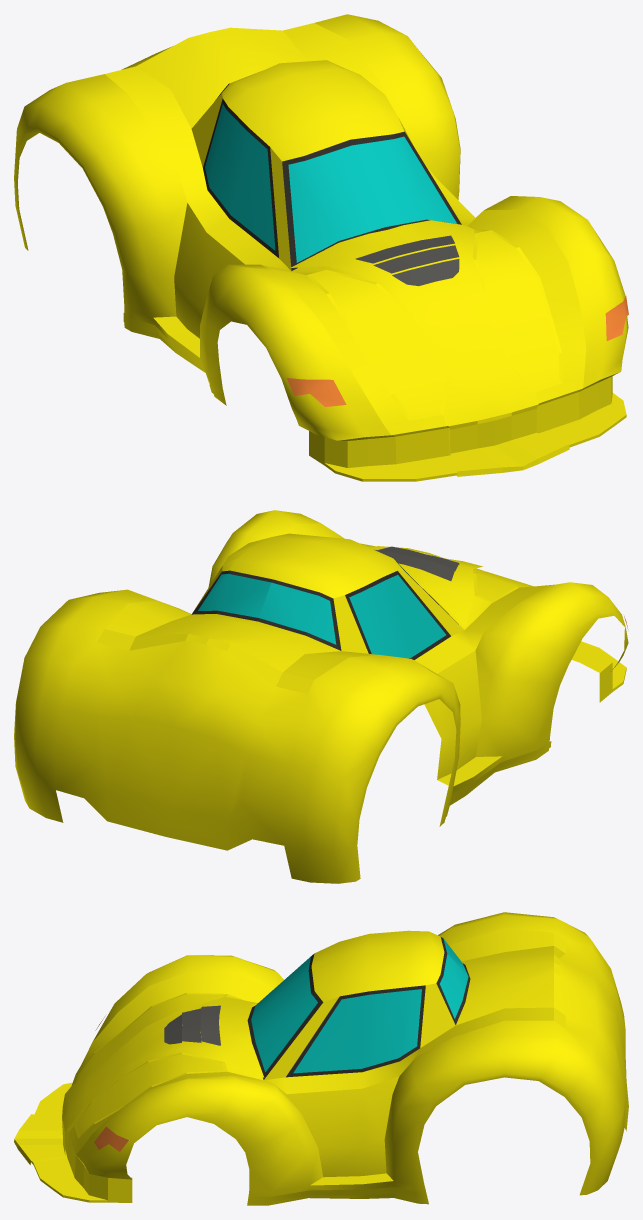
File: LuxCasing00C04.gltf
The picture shows the model from 3 angles, top to bottom: view 1: azimuth 30°, elevation 25°; view 2: azimuth 150°, elevation 25°; view 3: azimuth 270°, elevation 25°; orthographic projection. The views are drawn at different scales.
Parts seen in each view (by area): view 1: LuxCasing00C04; view 2: LuxCasing00C04; view 3: LuxCasing00C04.
Boxes of the visible parts, x1=… form: LuxCasing00C04: x1=14, y1=14, x2=628, y2=481; LuxCasing00C04: x1=14, y1=510, x2=628, y2=883; LuxCasing00C04: x1=14, y1=912, x2=628, y2=1205.
Bounding box in the file's own units: 0.2129 × 0.129 × 0.3654.
1 material, 1 textured.
